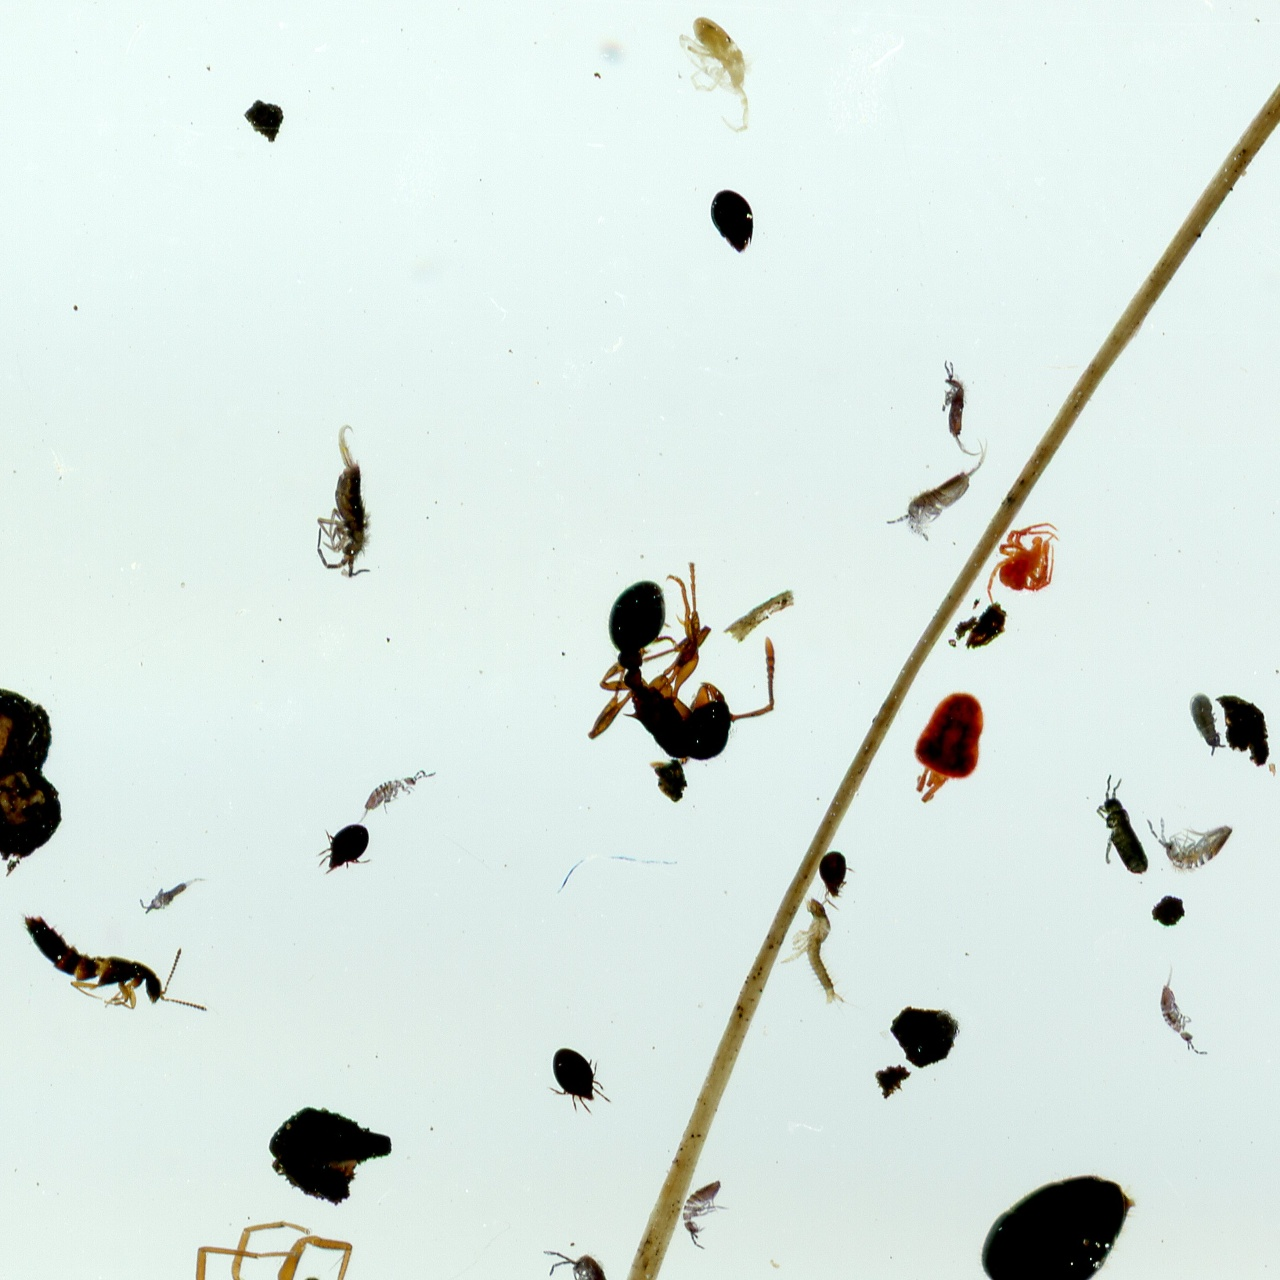arthropod: (670, 1084, 1280, 1280), (584, 558, 782, 787), (7, 899, 230, 1035), (873, 431, 1024, 563), (897, 677, 1004, 820), (183, 1219, 397, 1280), (308, 417, 378, 585), (779, 892, 867, 1018), (1079, 766, 1160, 893), (672, 14, 756, 136), (529, 1032, 624, 1133), (1140, 953, 1211, 1068), (984, 518, 1063, 605), (309, 811, 386, 889), (1145, 814, 1239, 876), (355, 762, 438, 826), (936, 358, 982, 459), (1179, 685, 1232, 766), (677, 1173, 730, 1254), (133, 872, 211, 917), (706, 188, 758, 255), (539, 1244, 619, 1280), (818, 849, 859, 912)
